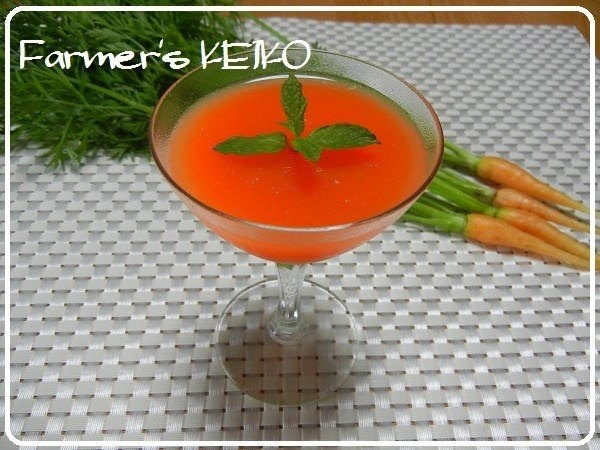background: (0, 0, 554, 192)
